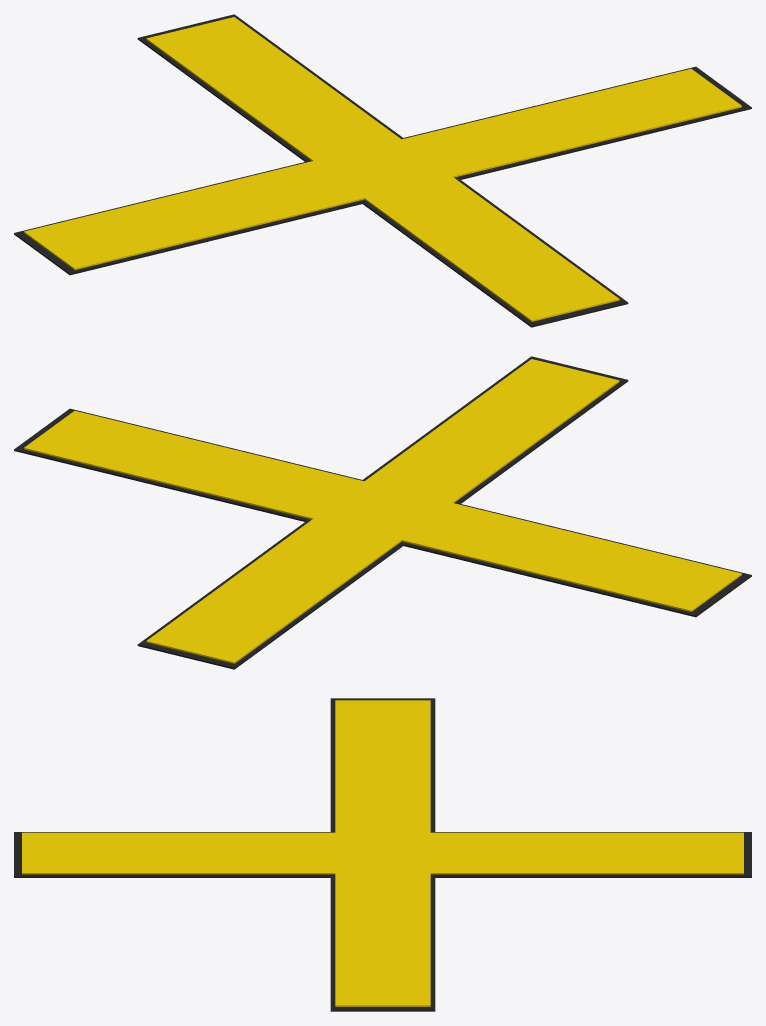
Rendered from X_MARKER_TAXIWAY_LOD00.gltf.
The picture shows the model from 3 angles, top to bottom: view 1: azimuth 30°, elevation 25°; view 2: azimuth 150°, elevation 25°; view 3: azimuth 270°, elevation 25°; orthographic projection. The views are drawn at different scales.
Parts seen in each view (by area): view 1: X_LEG_A, X_LEG_B, X_TRIM_A, X_TRIM_B; view 2: X_LEG_A, X_LEG_B, X_TRIM_A, X_TRIM_B; view 3: X_LEG_B, X_LEG_A, X_TRIM_A, X_TRIM_B.
Boxes of the visible parts, bbox=[...] form: X_LEG_A: bbox=[24, 68, 741, 269]; X_LEG_B: bbox=[146, 17, 619, 321]; X_TRIM_A: bbox=[14, 66, 751, 275]; X_TRIM_B: bbox=[137, 14, 628, 327]; X_LEG_A: bbox=[24, 410, 741, 611]; X_LEG_B: bbox=[146, 359, 619, 663]; X_TRIM_A: bbox=[14, 408, 751, 617]; X_TRIM_B: bbox=[137, 356, 628, 669]; X_LEG_B: bbox=[22, 832, 743, 874]; X_LEG_A: bbox=[335, 700, 430, 1006]; X_TRIM_A: bbox=[330, 698, 435, 1011]; X_TRIM_B: bbox=[14, 832, 751, 877].
Size of the model in its own units: 9.3 by 0.04 by 9.3.
